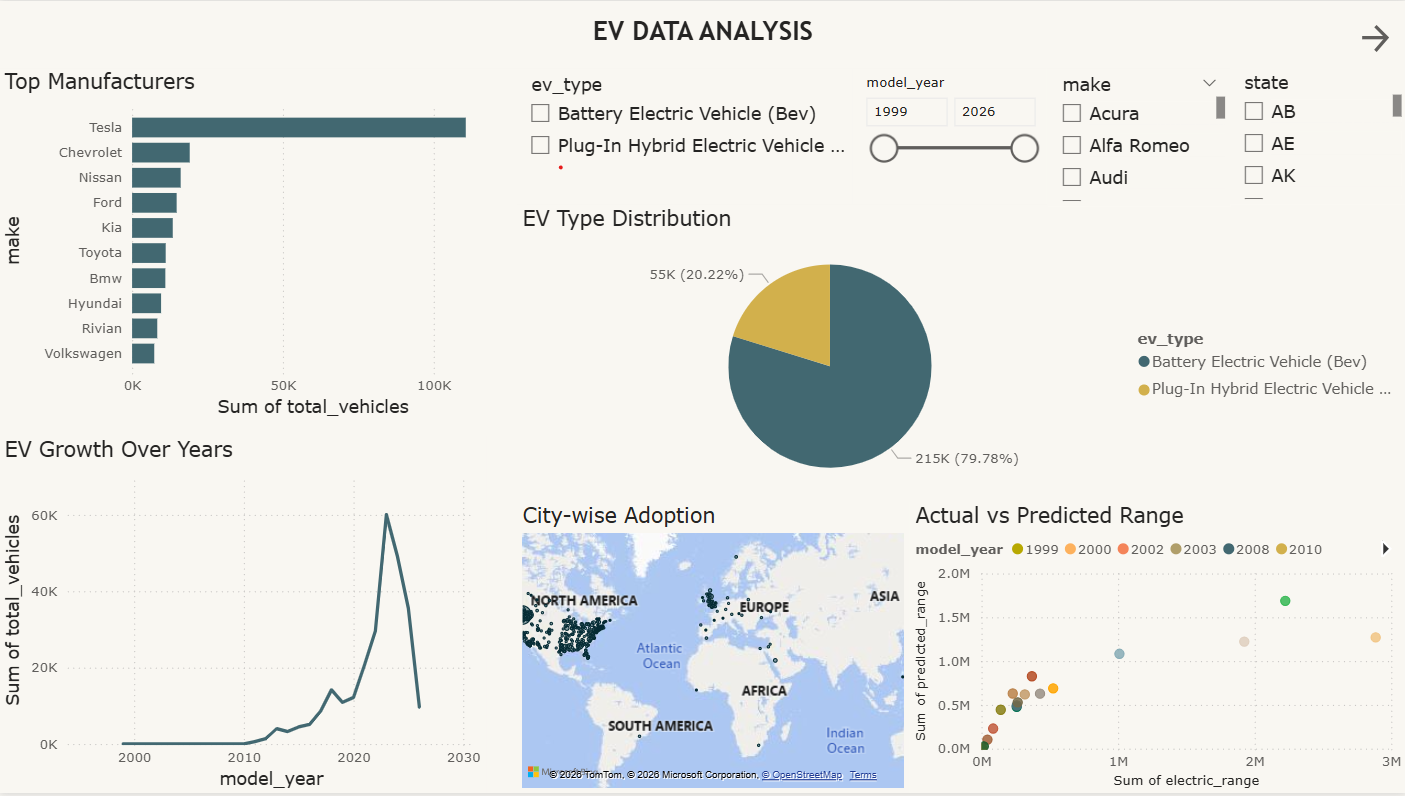

What the dashboard file says about the page in this screenshot:
{"tool":"powerbi","page":{"name":"Page 1","canvas":[1280,720],"ordinal":0},"visuals":[{"type":"lineChart","title":"EV Growth Over Years","fields":{"Category":["public ev_yearly_growth.model_year"],"Y":["Sum(public ev_yearly_growth.total_vehicles)"]},"box":[0,395,443,325],"z":0},{"type":"clusteredBarChart","title":"Top Manufacturers","fields":{"Category":["public ev_make_share.make"],"Y":["Sum(public ev_make_share.total_vehicles)"]},"box":[0,61.2,471,322],"z":1000},{"type":"pieChart","title":"EV Type Distribution","fields":{"Category":["public ev_type_distribution.ev_type"],"Y":["Sum(public ev_type_distribution.total_vehicles)"]},"box":[471,185,809,270],"z":2000},{"type":"map","title":"City-wise Adoption","fields":{"Size":["Sum(public ev_city_distribution.total_vehicles)"],"Category":["public ev_city_distribution.city"]},"box":[471,455,357,265],"z":3000},{"type":"scatterChart","title":"Actual vs Predicted Range","fields":{"X":["Sum(public ev_range_predictions.electric_range)"],"Y":["Sum(public ev_range_predictions.predicted_range)"],"Series":["public ev_range_predictions.model_year"]},"box":[828.5,455.1,451.5,265.2],"z":4000},{"type":"slicer","fields":{"Values":["public dim_model_year.model_year"]},"box":[775.9,61.2,177.3,124.1],"z":5000},{"type":"slicer","fields":{"Values":["public dim_make.make"]},"box":[953.2,61.2,165.8,125.9],"z":6000},{"type":"slicer","fields":{"Values":["public dim_ev_type.ev_type"]},"box":[470.8,61.2,305,124.1],"z":7000},{"type":"textbox","box":[0,7,1280,54],"z":8000},{"type":"actionButton","box":[1233.9,16.9,46.1,33.7],"z":9000},{"type":"slicer","fields":{"Values":["public dim_state.state"]},"box":[1119,59.4,161.4,125.9],"z":10000}]}

Visuals, with their boxes in screenshot pixels (x1, y1, x2, y2), scaled from the page's 1280x720 canvas onto the 1405x796 screenshot:
"EV Growth Over Years" lineChart: <bbox>0, 437, 486, 795</bbox>
"Top Manufacturers" clusteredBarChart: <bbox>0, 68, 517, 424</bbox>
"EV Type Distribution" pieChart: <bbox>517, 205, 1404, 503</bbox>
"City-wise Adoption" map: <bbox>517, 503, 909, 795</bbox>
"Actual vs Predicted Range" scatterChart: <bbox>909, 503, 1404, 795</bbox>
slicer - public dim_model_year.model_year: <bbox>852, 68, 1046, 205</bbox>
slicer - public dim_make.make: <bbox>1046, 68, 1228, 207</bbox>
slicer - public dim_ev_type.ev_type: <bbox>517, 68, 852, 205</bbox>
textbox: <bbox>0, 8, 1404, 67</bbox>
actionButton: <bbox>1354, 19, 1404, 56</bbox>
slicer - public dim_state.state: <bbox>1228, 66, 1404, 205</bbox>
